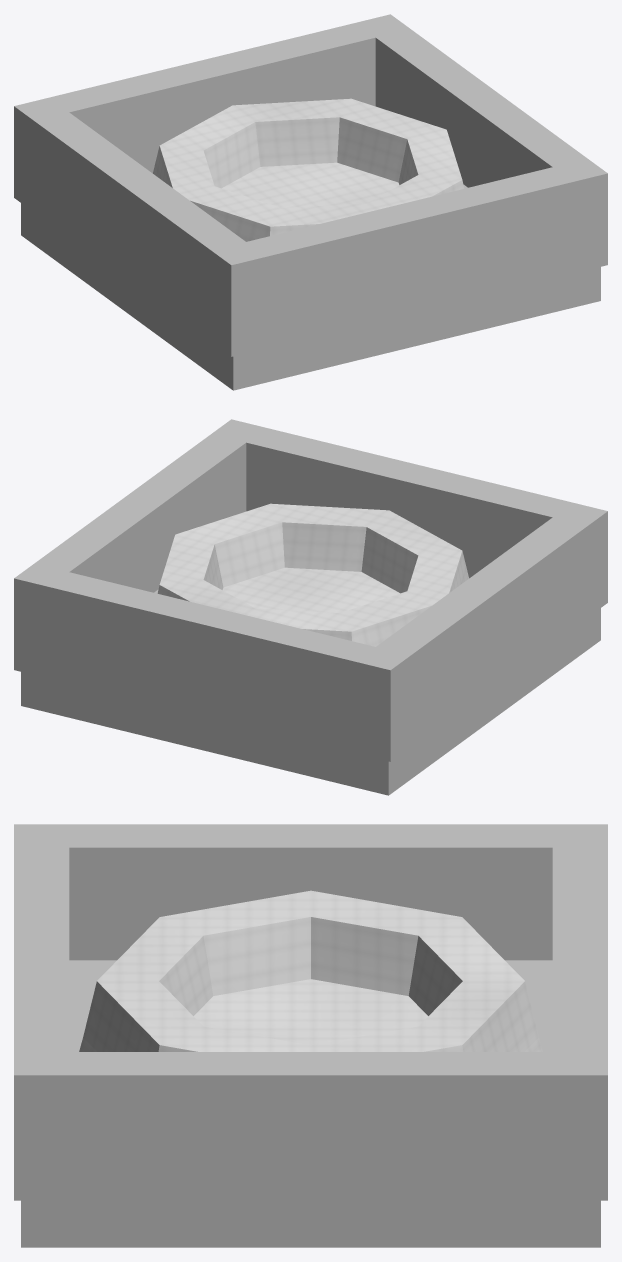
Rendered from egg_box.obj.
3 renders of one model, top to bottom at view 1: azimuth 30°, elevation 25°; view 2: azimuth 150°, elevation 25°; view 3: azimuth 270°, elevation 25°, orthographic. The views are drawn at different scales.
Parts seen in each view (by area): view 1: egg_box; view 2: egg_box; view 3: egg_box.
Boxes of the visible parts, box(x1,y1,x2,y2) form: egg_box: box(14, 14, 607, 390); egg_box: box(14, 419, 607, 795); egg_box: box(14, 824, 607, 1247).
Size of the model in its own units: 0.86 by 0.28 by 0.86.
